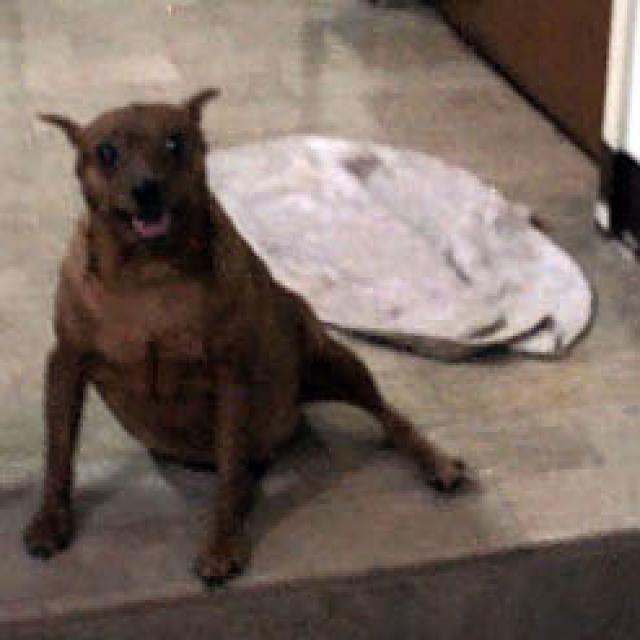dog-miniature_pinscher: (16, 72, 482, 589)
